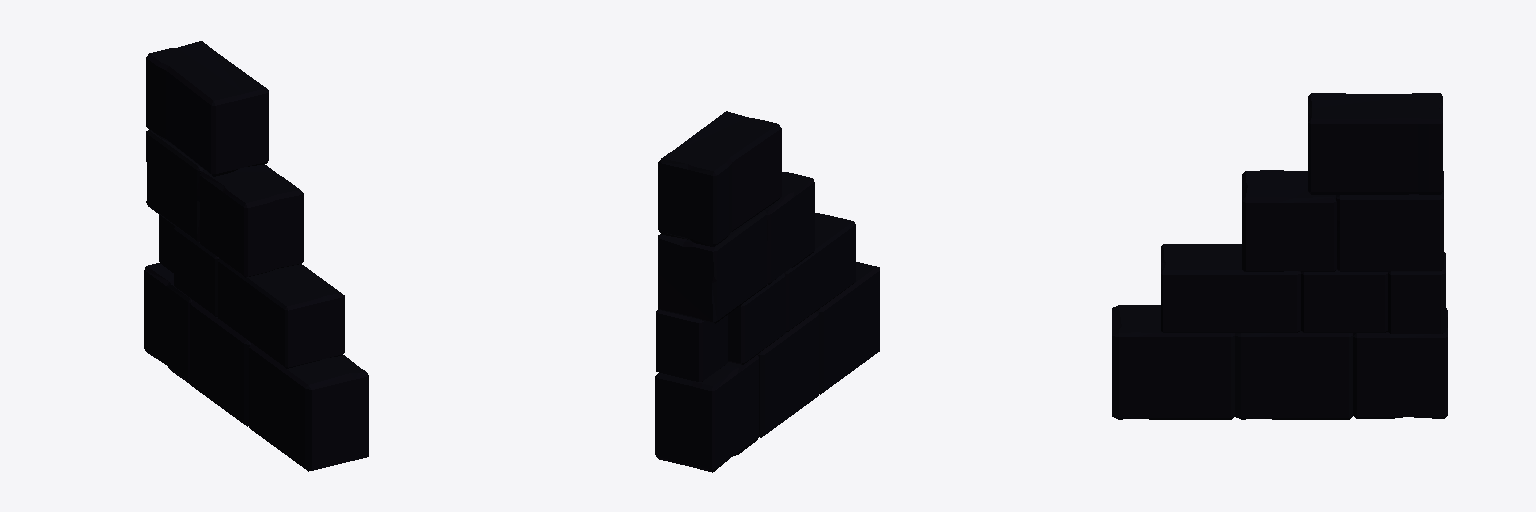
Rendered from Stairs_SideCover.obj.
3 views of the same model, side by side, from view 1: azimuth 30°, elevation 25°; view 2: azimuth 150°, elevation 25°; view 3: azimuth 270°, elevation 25° (orthographic).
Visible parts, largest first — view 1: Stairs_SideCover_Cube.058; view 2: Stairs_SideCover_Cube.058; view 3: Stairs_SideCover_Cube.058.
Boxes of the visible parts, <box> form: Stairs_SideCover_Cube.058: <box>144,41,368,471</box>; Stairs_SideCover_Cube.058: <box>655,111,879,472</box>; Stairs_SideCover_Cube.058: <box>1112,93,1447,419</box>.
Size of the model in its own units: 0.4427 by 2.03 by 2.06.